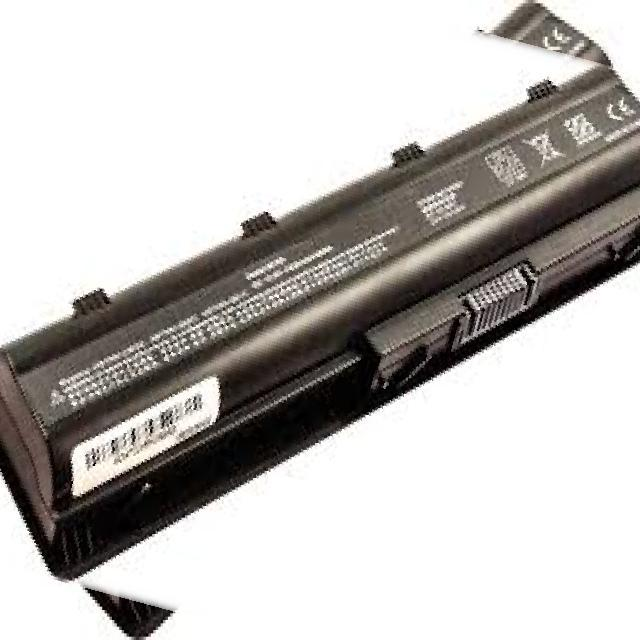Battery: (0, 70, 640, 588)
